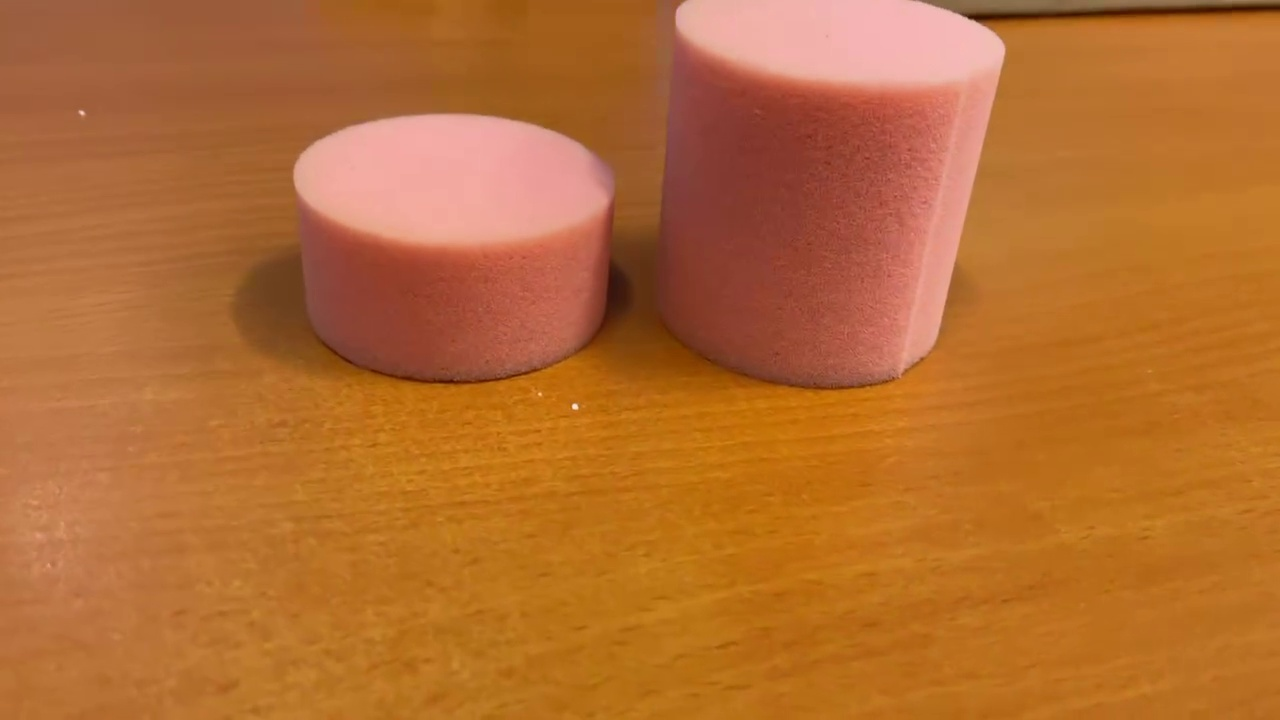Clyinder_short: (280, 104, 623, 390)
Cylinder: (651, 1, 1009, 397)
